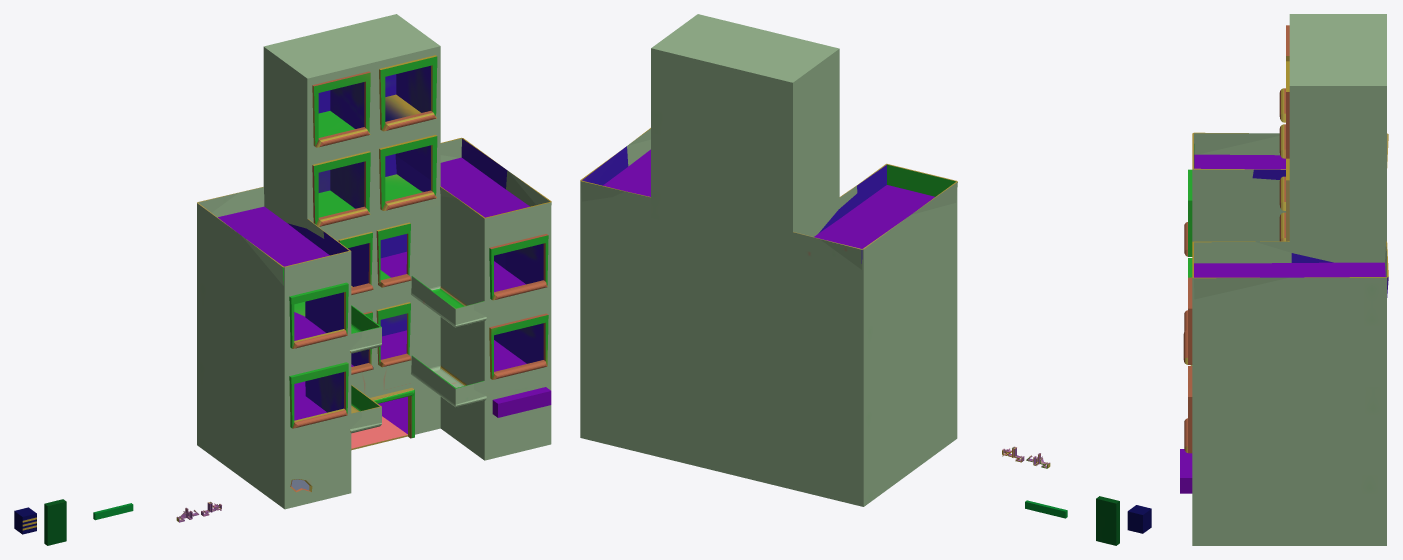
3 renders of one model, left to right at view 1: azimuth 30°, elevation 25°; view 2: azimuth 150°, elevation 25°; view 3: azimuth 270°, elevation 25°, orthographic. The views are drawn at different scales.
Visible parts, largest first — view 1: Building, Door; view 2: Building, Door; view 3: Building.
Part boxes in pixels (x1,y1,x2,y2): Building: [197, 14, 551, 509]; Door: [44, 499, 66, 545]; Building: [580, 14, 957, 506]; Door: [1096, 496, 1119, 545]; Building: [1180, 14, 1388, 545].
Size of the model in its own units: 2577 by 2020 by 857.
